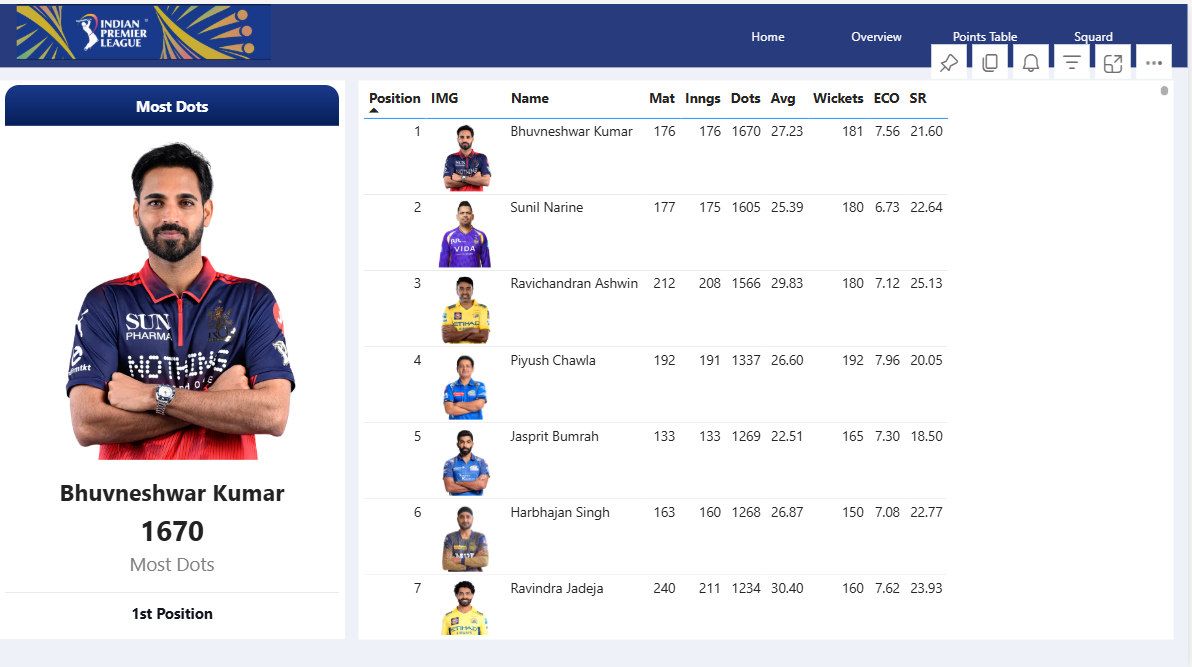

What the dashboard file says about the page in this screenshot:
{"tool":"powerbi","page":{"name":"Most Dots","canvas":[1280,720],"ordinal":5},"visuals":[{"type":"shape","box":[0,0,1280,68.3],"z":0},{"type":"image","box":[0,0,310,60],"z":1000},{"type":"pageNavigator","box":[775,10,458.3,50],"z":2000},{"type":"htmlContent443BE3AD55E043BF878BED274D3A6855","fields":{"content":["Records.Top_Players"]},"box":[0,82,372,602],"z":3000},{"type":"tableEx","fields":{"Values":["MostDots.Position","MostDots.IMG","MostDots.Name","Sum(MostDots.Mat)","Sum(MostDots.Inngs)","Sum(MostDots.Dots)","Sum(MostDots.Avg)","Sum(MostDots.Wickets)","Sum(MostDots.ECO)","Sum(MostDots.SR)"]},"box":[386,82,878,602],"z":4000}]}

Visuals, with their boxes on the page's 1280x720 design canvas (x1, y1, x2, y2). These are canvas units, not pixel positions in the 1192x667 screenshot, which may show the page scaled, cropped or inside an application window:
shape: (0,0,1280,68)
image: (0,0,310,60)
pageNavigator: (775,10,1233,60)
htmlContent443BE3AD55E043BF878BED274D3A6855 - Records.Top_Players: (0,82,372,684)
tableEx - MostDots.Position x MostDots.IMG: (386,82,1264,684)
